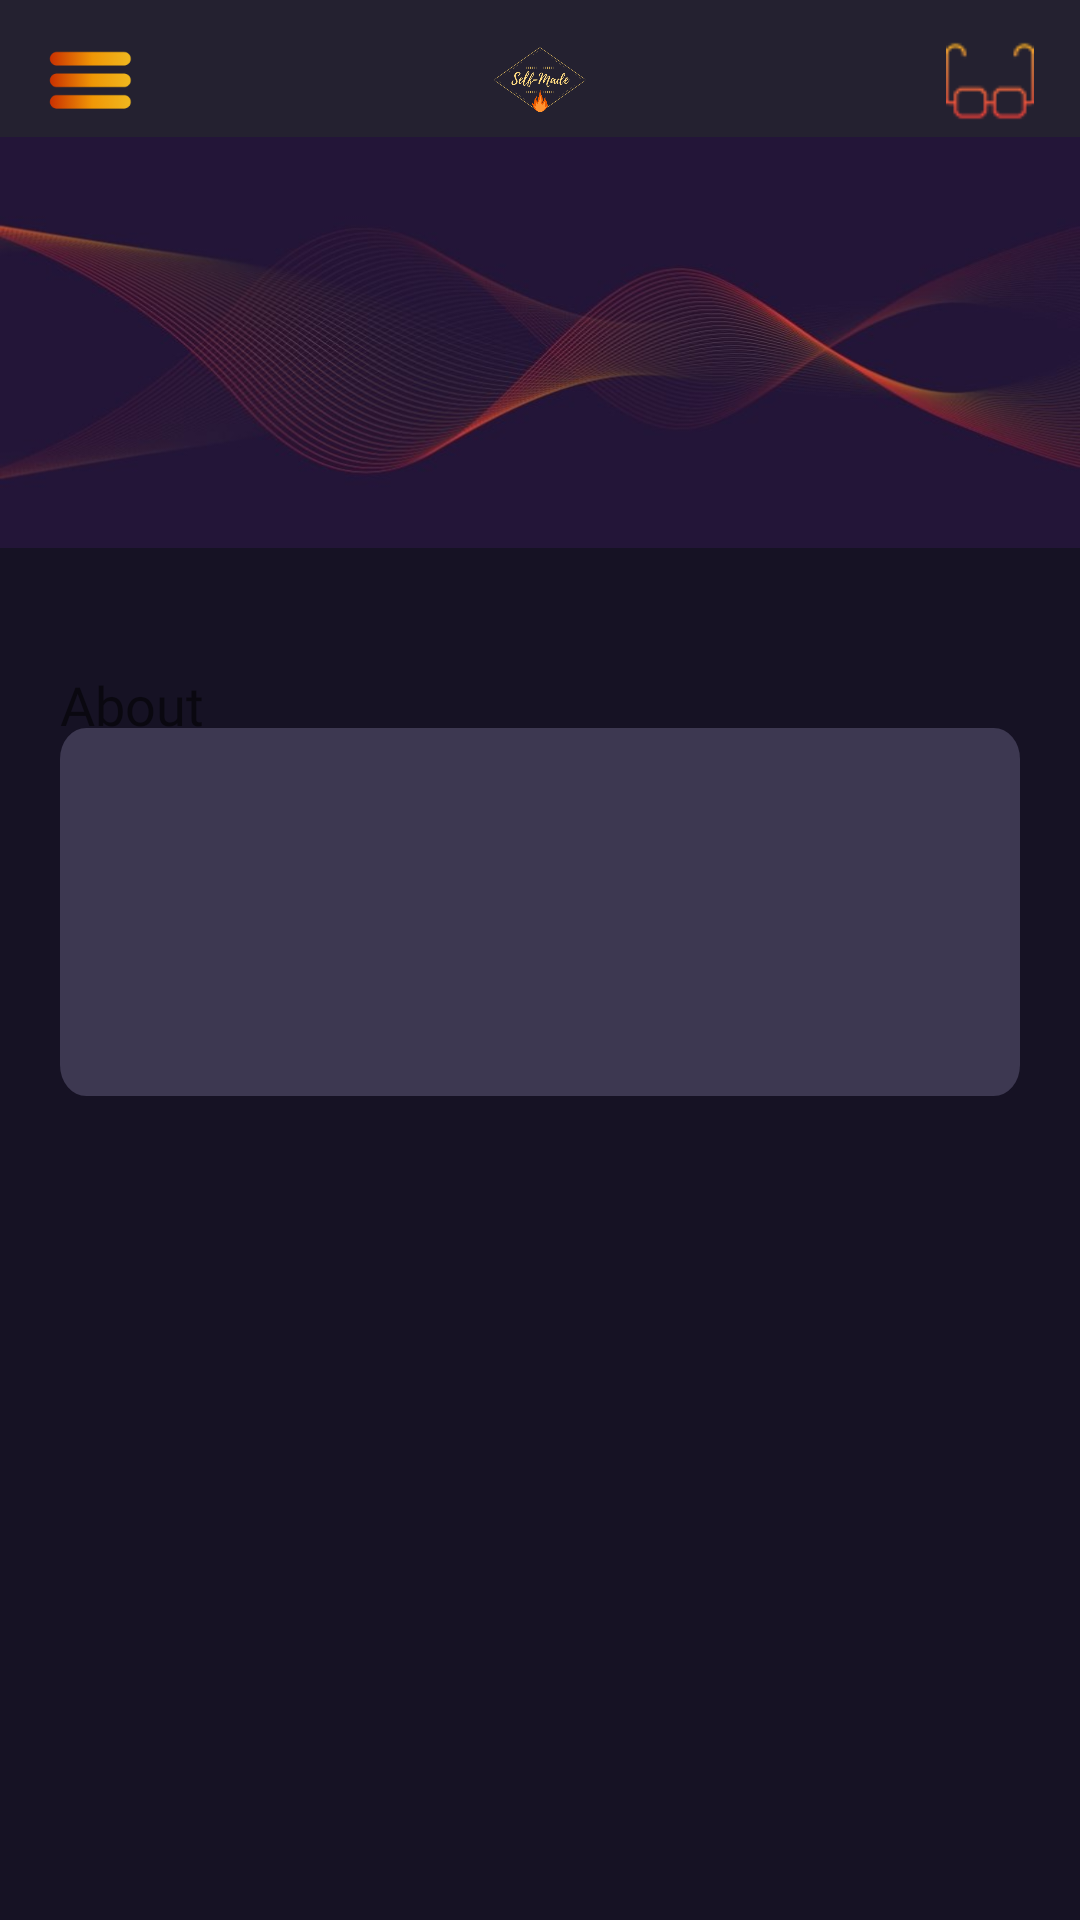

Point at icon controls on the screen. Image size 1080w x 1920h, points as point (x, y).
hamburger: point (90, 80)
